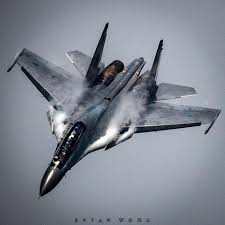maybay_muctieu: (12, 26, 218, 193)
